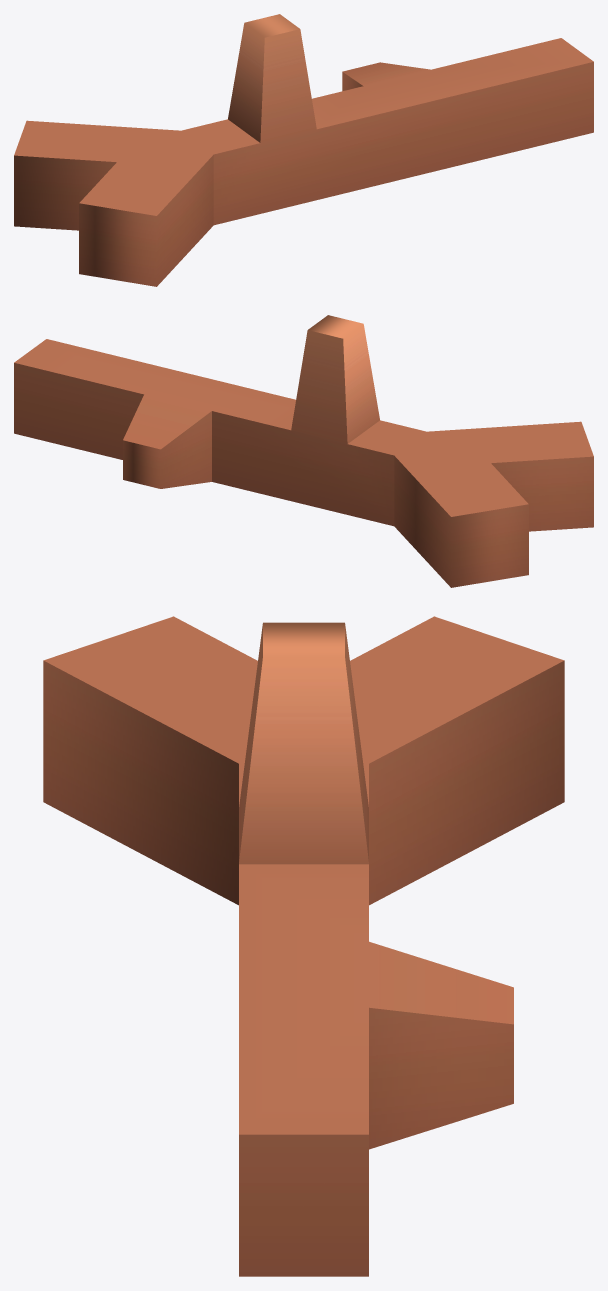
The model's file is firewood.glb.
3 renders of one model, top to bottom at view 1: azimuth 30°, elevation 25°; view 2: azimuth 150°, elevation 25°; view 3: azimuth 270°, elevation 25°, orthographic. The views are drawn at different scales.
Parts seen in each view (by area): view 1: resource-wood; view 2: resource-wood; view 3: resource-wood.
Boxes of the visible parts, x1,y1,x2,y2 form: resource-wood: [14, 14, 593, 286]; resource-wood: [14, 315, 593, 587]; resource-wood: [43, 616, 564, 1276].
Bounding box in the file's own units: 0.205 × 0.0624 × 0.0871.
Materials: 1 (1 with a texture image).
